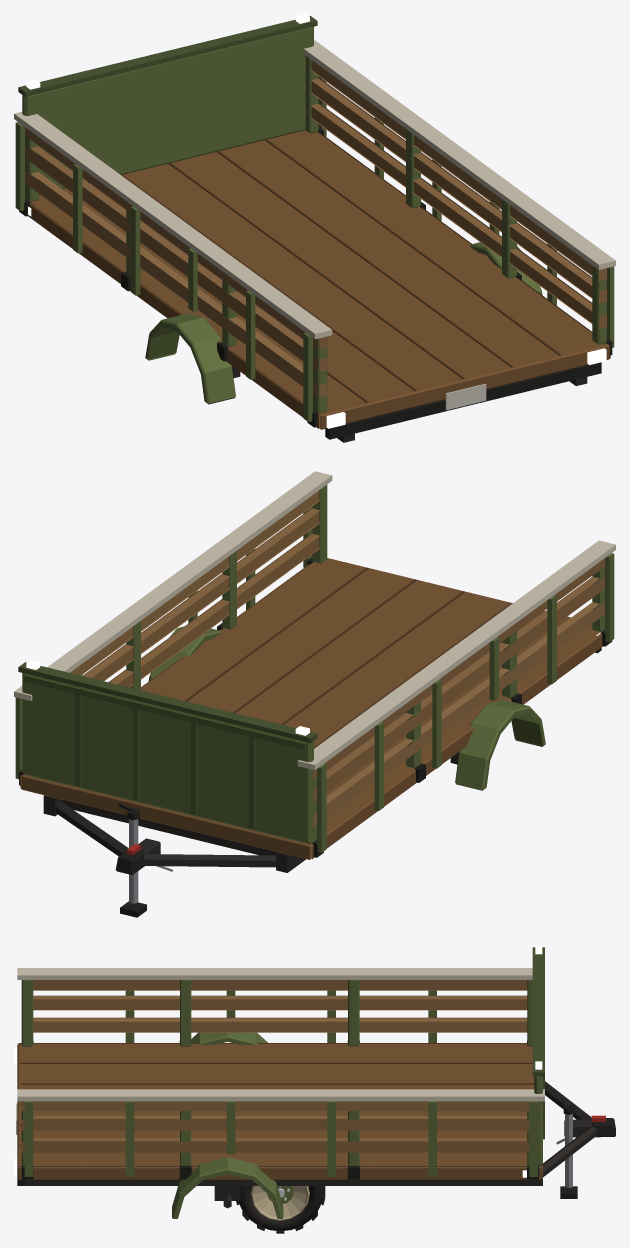
Rendered from RanchTrailer_LoggingRig.glb.
The picture shows the model from 3 angles, top to bottom: view 1: azimuth 30°, elevation 25°; view 2: azimuth 150°, elevation 25°; view 3: azimuth 270°, elevation 25°; orthographic projection. The views are drawn at different scales.
Visible parts, largest first — view 1: Bed, Body, Lights; view 2: Bed, Body, Hitch; view 3: Bed, Body, Wheel, Hitch.
Part boxes in pixels (<box>): Bed: <box>14,16,615,429</box>; Body: <box>145,242,601,442</box>; Lights: <box>26,14,606,428</box>; Bed: <box>14,471,615,859</box>; Body: <box>43,626,601,872</box>; Hitch: <box>55,801,275,917</box>; Bed: <box>17,947,544,1179</box>; Body: <box>16,1032,542,1218</box>; Wheel: <box>236,1186,325,1233</box>; Hitch: <box>543,1081,615,1198</box>.
Size of the model in its own units: 11.87 by 8.52 by 20.84.
